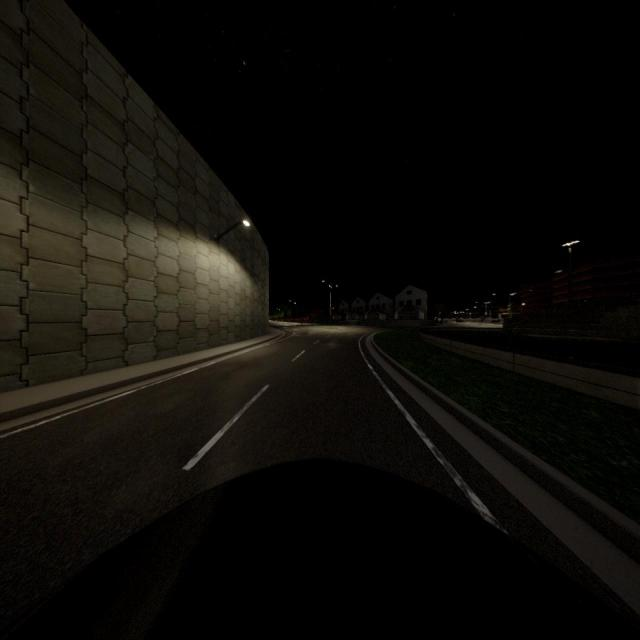Vehicle: (0, 462, 640, 639), (491, 318, 499, 322), (456, 319, 464, 322)
